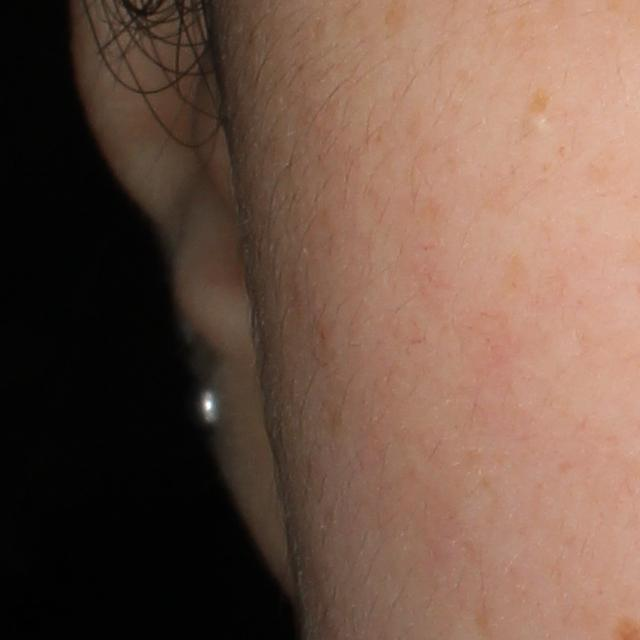comedo: (522, 115, 547, 136)
melasma: (523, 74, 558, 117)
